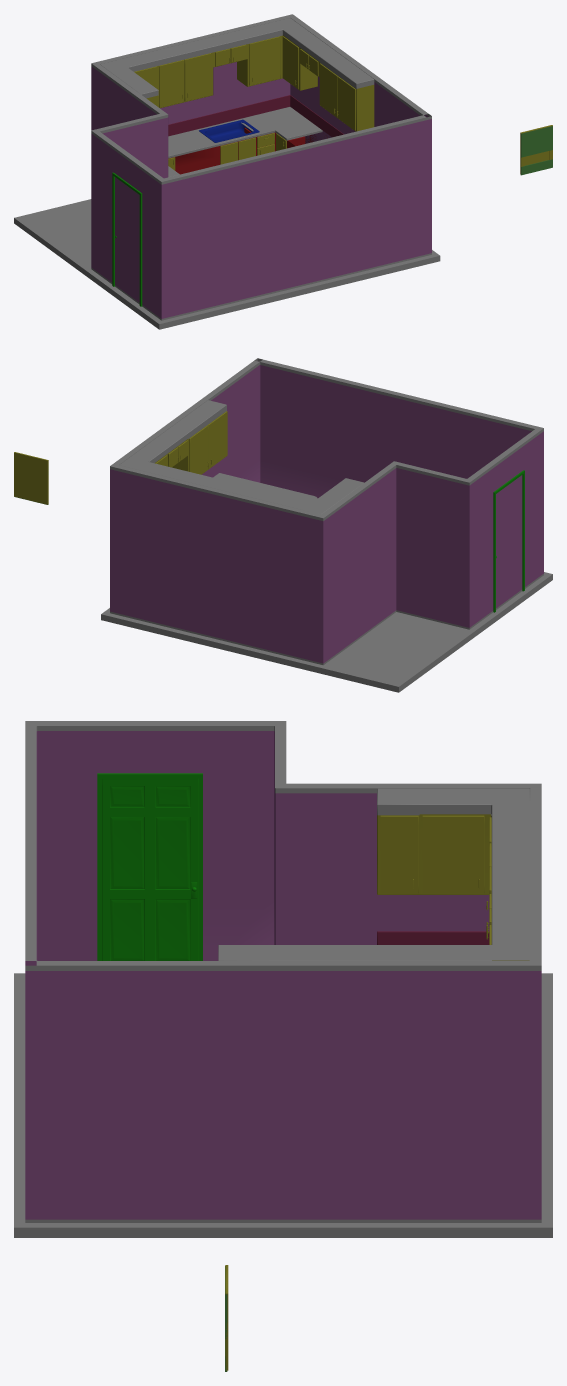
Rendered from FloorPlan5.fbx.
3 views of the same model, one above another, from view 1: azimuth 30°, elevation 25°; view 2: azimuth 150°, elevation 25°; view 3: azimuth 270°, elevation 25° (orthographic). The views are drawn at different scales.
Parts seen in each view (by area): view 1: StandardWallSize, StandardUpperCabinetHeightWidth, Floor, StandardCounterHeightWidth, StandardWallTileHeight1, CabinetDoorBase1 (8), CabinetDoorBase1 (11), CabinetDoorBase1 (10), StandardDoorFrame1 (2), CabinetDoorBase1 (2), CabinetDoorBase1, StandardSinkSize1 (2) (+2 smaller); view 2: StandardWallSize, Floor, StandardUpperCabinetHeightWidth, CabinetDoorBase3, CabinetDoorBase1, StandardDoorFrame1 (2), CabinetDoorBase1 (2), StandardCounterHeightWidth; view 3: StandardWallSize, StandardDoor1 (2), StandardUpperCabinetHeightWidth, Floor, CabinetDoorBase1 (12), CabinetDoorBase1 (13), StandardDoorFrame1 (2), StandardWallTileHeight1.
Part boxes in pixels (<box>): StandardWallSize: <box>91,14,431,320</box>; StandardUpperCabinetHeightWidth: <box>100,18,374,131</box>; Floor: <box>14,199,440,329</box>; StandardCounterHeightWidth: <box>168,107,327,177</box>; StandardWallTileHeight1: <box>168,95,343,137</box>; CabinetDoorBase1 (8): <box>249,36,280,85</box>; CabinetDoorBase1 (11): <box>184,53,211,101</box>; CabinetDoorBase1 (10): <box>159,60,184,107</box>; StandardDoorFrame1 (2): <box>112,172,142,306</box>; CabinetDoorBase1 (2): <box>319,63,337,117</box>; CabinetDoorBase1: <box>337,76,355,130</box>; StandardSinkSize1 (2): <box>199,119,259,142</box>; StandardWallSize: <box>110,358,543,665</box>; Floor: <box>101,572,552,692</box>; StandardUpperCabinetHeightWidth: <box>119,400,363,514</box>; CabinetDoorBase3: <box>14,452,48,504</box>; CabinetDoorBase1: <box>208,411,227,468</box>; StandardDoorFrame1 (2): <box>493,470,524,612</box>; CabinetDoorBase1 (2): <box>189,425,208,474</box>; StandardCounterHeightWidth: <box>213,473,317,501</box>; StandardWallSize: <box>25,721,541,1222</box>; StandardDoor1 (2): <box>102,778,198,960</box>; StandardUpperCabinetHeightWidth: <box>218,788,530,960</box>; Floor: <box>14,973,552,1237</box>; CabinetDoorBase1 (12): <box>422,815,484,893</box>; CabinetDoorBase1 (13): <box>380,815,418,893</box>; StandardDoorFrame1 (2): <box>97,773,202,960</box>; StandardWallTileHeight1: <box>377,931,489,944</box>.
Size of the model in its own units: 850 by 260 by 475.
